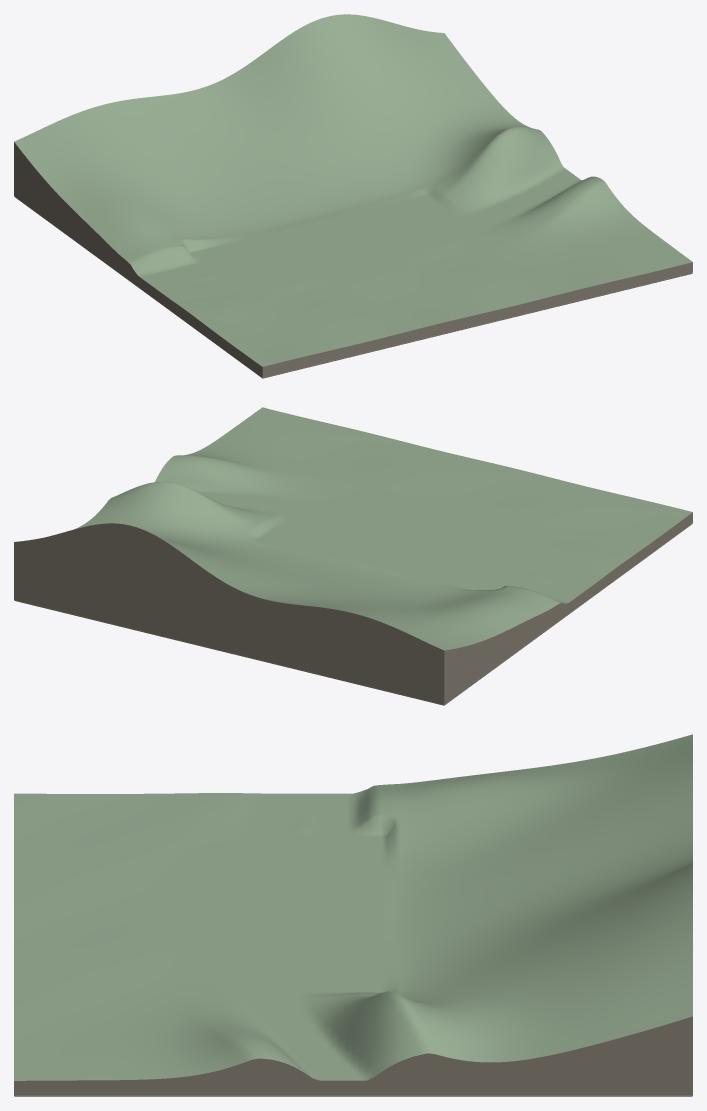
The model's file is Terrain.fbx.
3 views of the same model, one above another, from view 1: azimuth 30°, elevation 25°; view 2: azimuth 150°, elevation 25°; view 3: azimuth 270°, elevation 25° (orthographic). The views are drawn at different scales.
Parts seen in each view (by area): view 1: Terrain; view 2: Terrain; view 3: Terrain.
Boxes of the visible parts, left/top/right/bottom form: Terrain: left=14, top=14, right=692, bottom=378; Terrain: left=14, top=407, right=692, bottom=705; Terrain: left=14, top=734, right=692, bottom=1096.
Size of the model in its own units: 10000 by 10000 by 2306.
